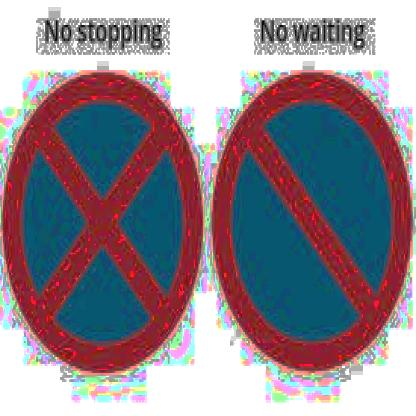No stopping: (7, 58, 200, 373)
